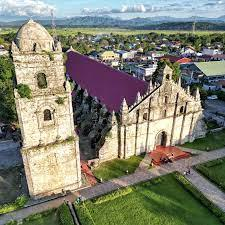Environmental Damage: (15, 83, 31, 99), (43, 49, 57, 63), (54, 96, 67, 106), (64, 135, 77, 144)
Paoay Church: (10, 14, 206, 185)
